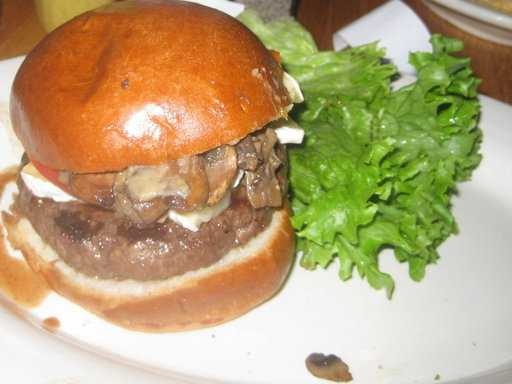hamburger: (3, 9, 307, 324)
